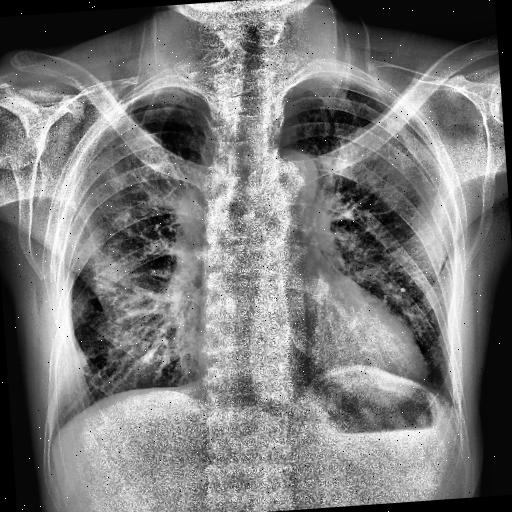0- Aortic enlargement: (262, 143, 324, 219), (260, 146, 322, 222), (253, 144, 317, 204)
13- Pulmonary fibrosis: (86, 112, 208, 268)
3- Cardiomegaly: (200, 294, 424, 399), (192, 306, 430, 398), (198, 304, 426, 400)
